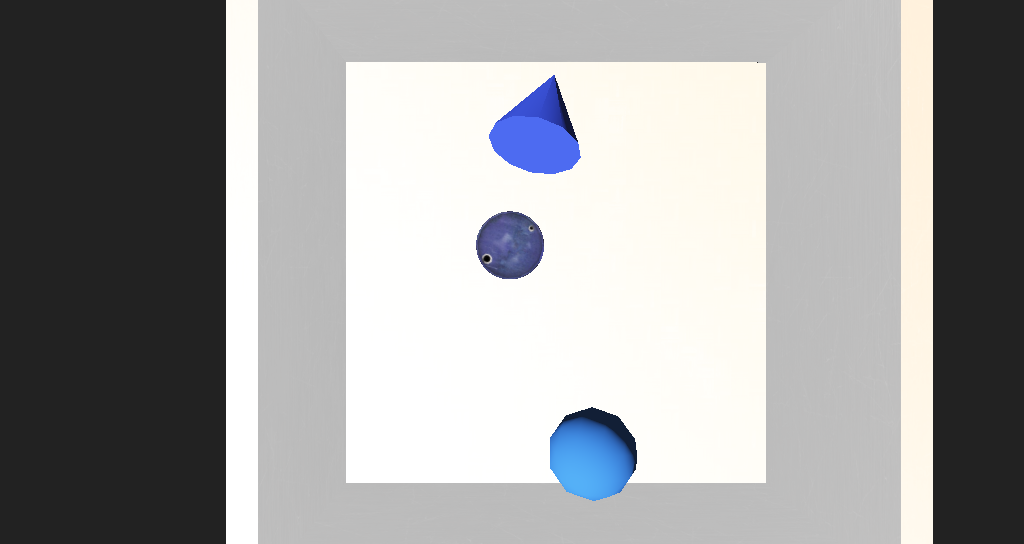cone: (448, 241, 495, 274)
cylinder: (451, 148, 532, 224)
sphere: (502, 334, 563, 382)
